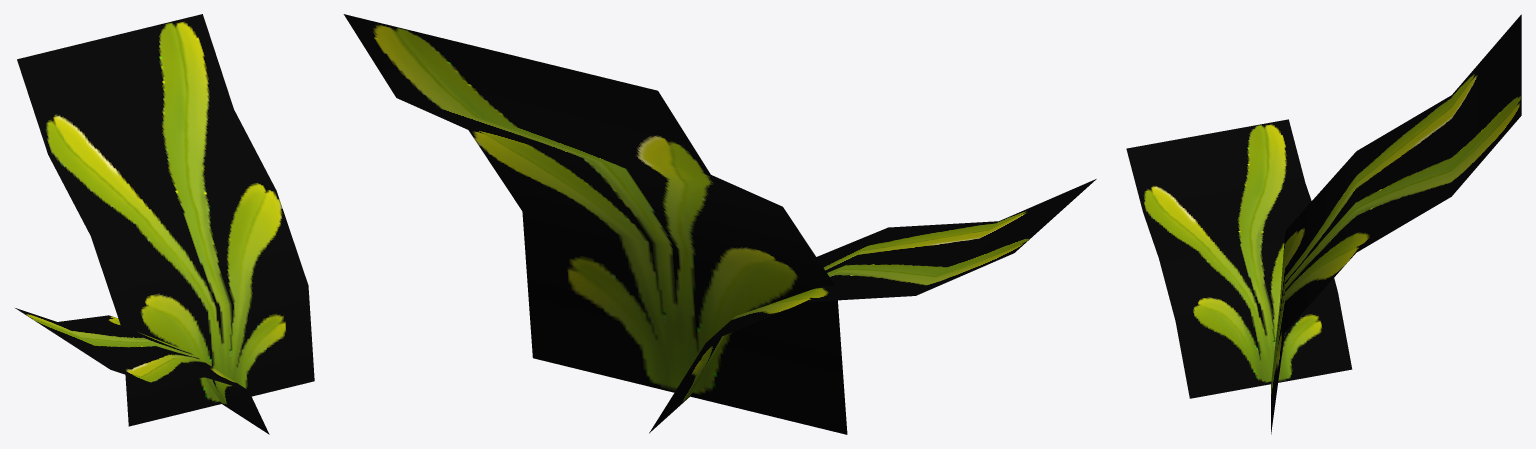
File: Grass3.fbx
The picture shows the model from 3 angles, left to right: view 1: azimuth 30°, elevation 25°; view 2: azimuth 150°, elevation 25°; view 3: azimuth 270°, elevation 25°; orthographic projection. The views are drawn at different scales.
Parts seen in each view (by area): view 1: Grass3; view 2: Grass3; view 3: Grass3.
Part boxes in pixels (x1,y1,x2,y2): Grass3: (15, 14, 314, 434); Grass3: (343, 14, 1096, 434); Grass3: (1126, 14, 1521, 434).
Bounding box in the file's own units: 116 × 111 × 121.
